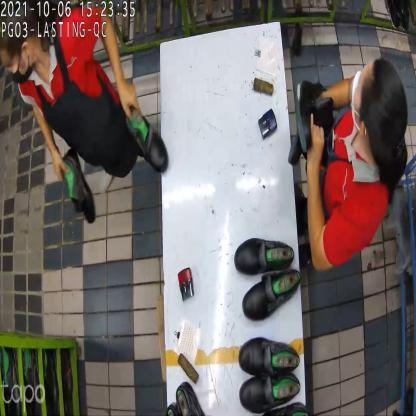shoes: (60, 109, 170, 225), (234, 235, 299, 323), (238, 337, 303, 412), (286, 78, 332, 170)
stamp: (177, 269, 197, 302), (258, 108, 277, 140)
